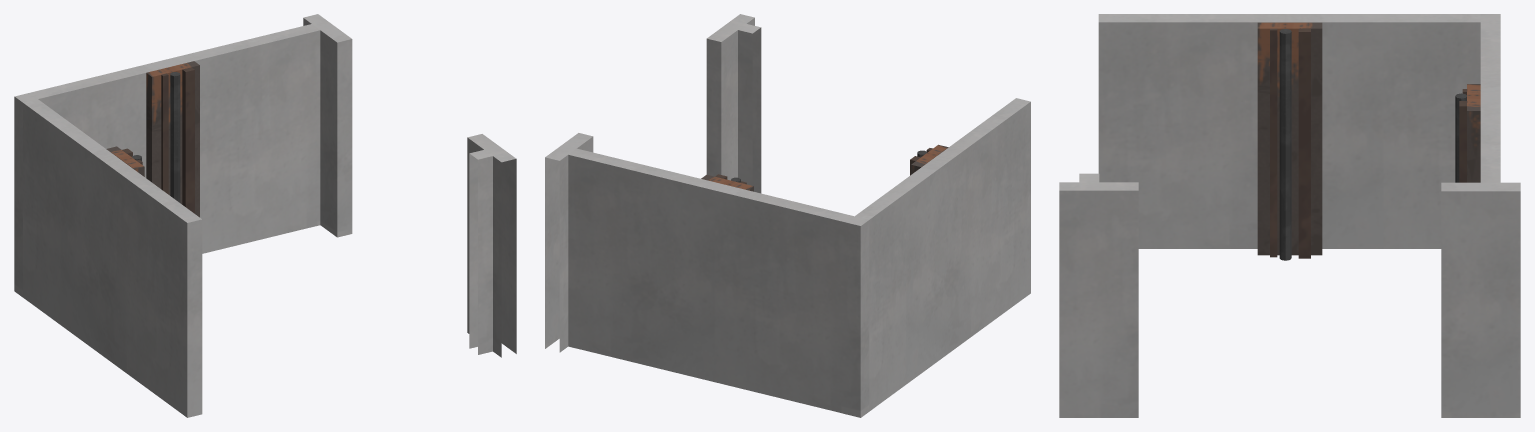
Rendered from elevator_wall.fbx.
3 views of the same model, side by side, from view 1: azimuth 30°, elevation 25°; view 2: azimuth 150°, elevation 25°; view 3: azimuth 270°, elevation 25° (orthographic). The views are drawn at different scales.
Visible parts, largest first — view 1: Elevator_shaft; view 2: Elevator_shaft; view 3: Elevator_shaft.
Boxes of the visible parts, x1=… form: Elevator_shaft: x1=14, y1=14, x2=516, y2=417; Elevator_shaft: x1=545, y1=14, x2=1030, y2=417; Elevator_shaft: x1=1059, y1=14, x2=1520, y2=417.
Size of the model in its own units: 418 by 250 by 460.
